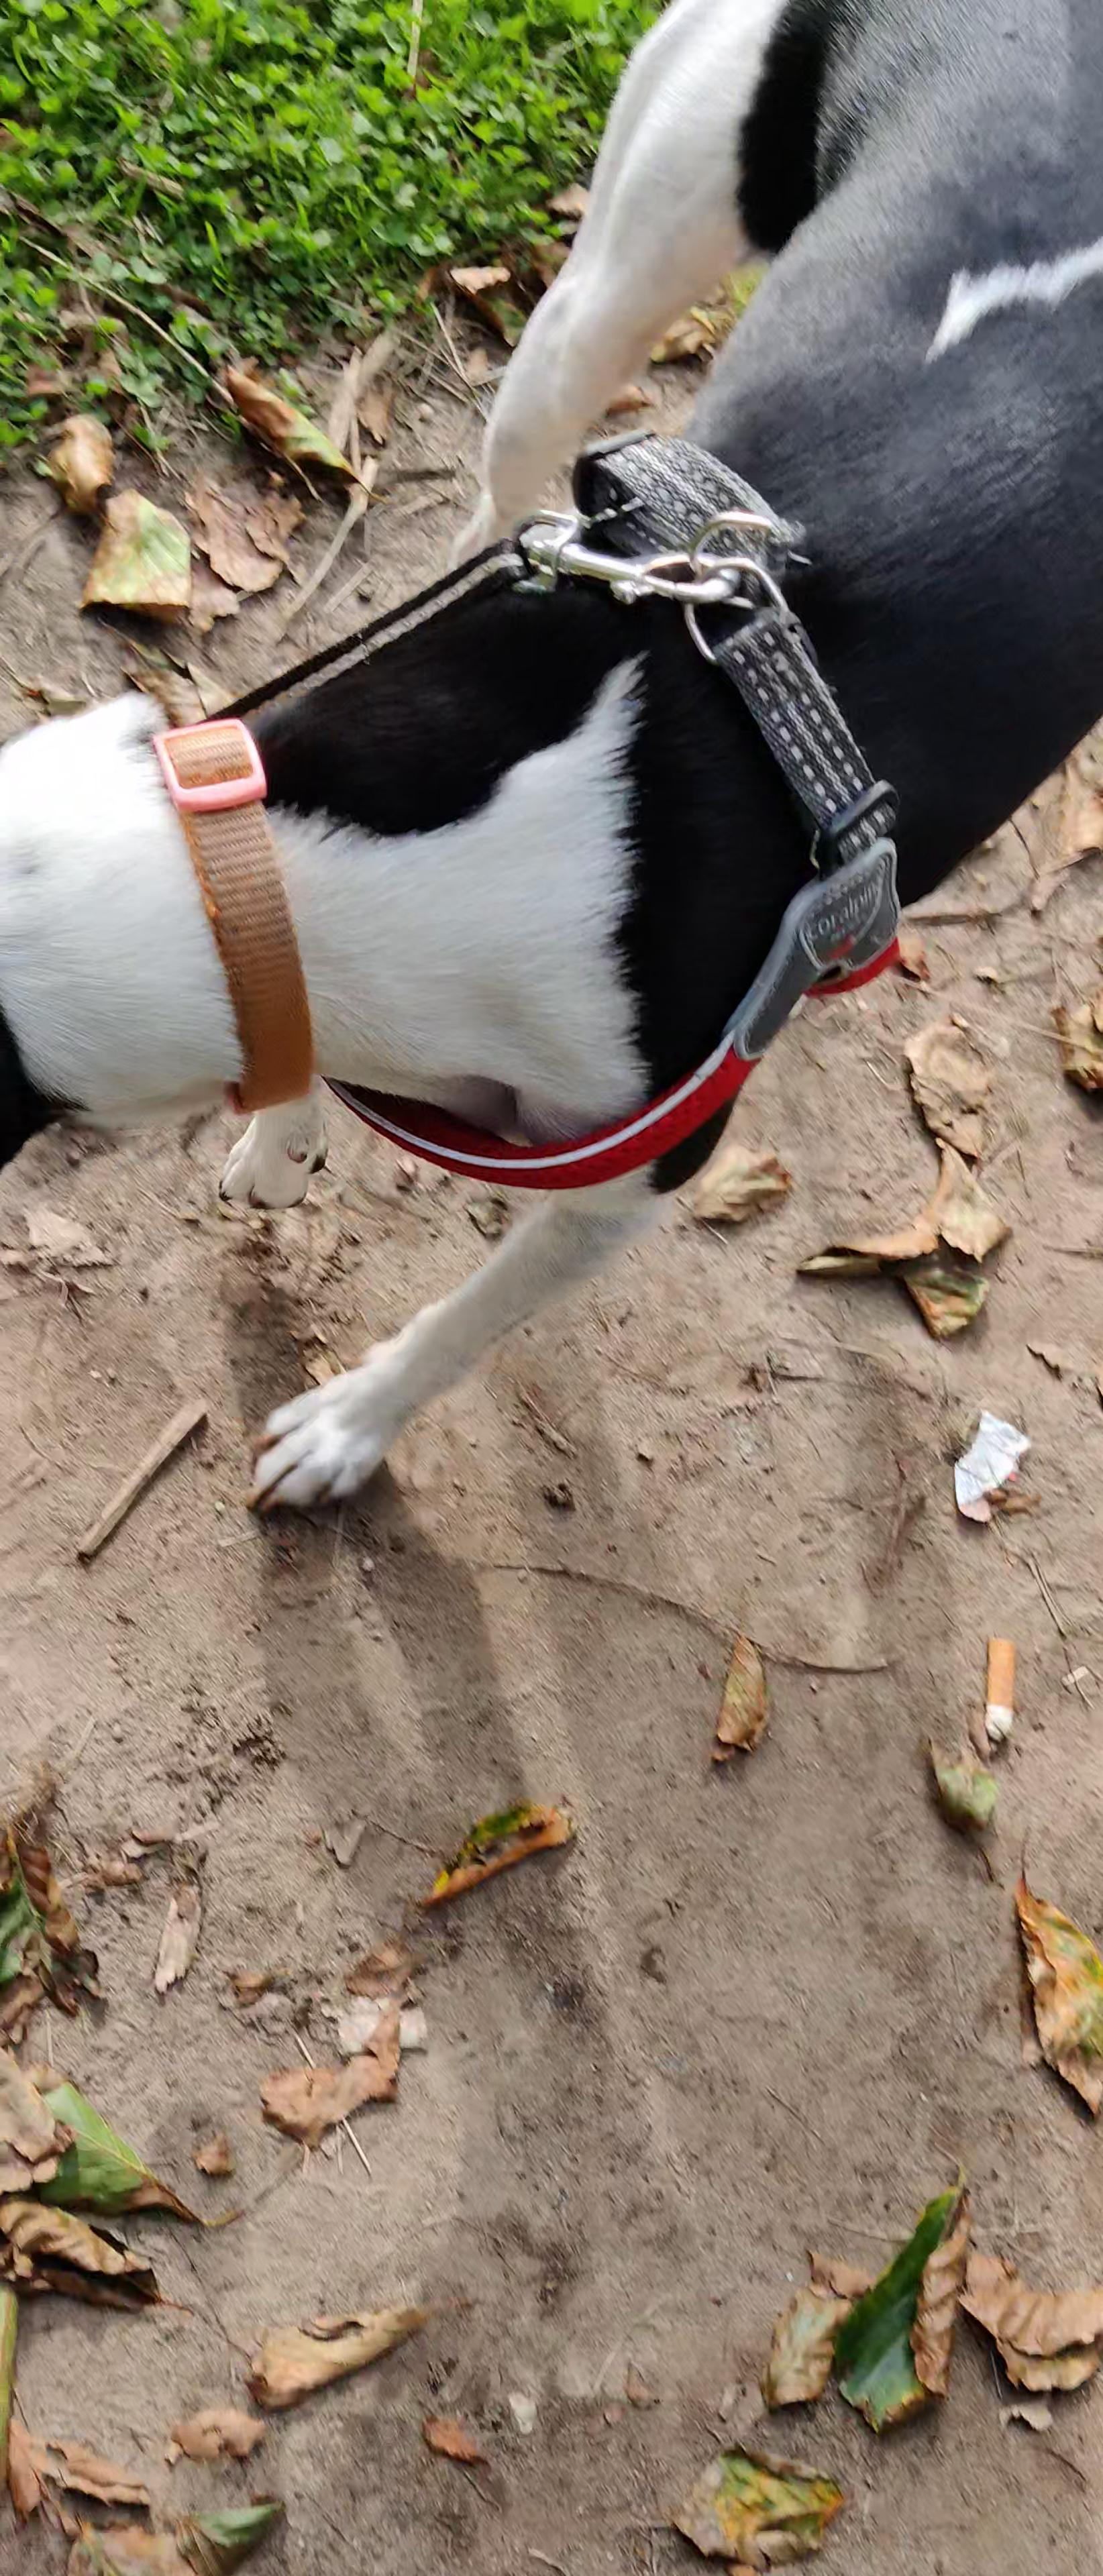Dog: (0, 0, 1103, 1566)
